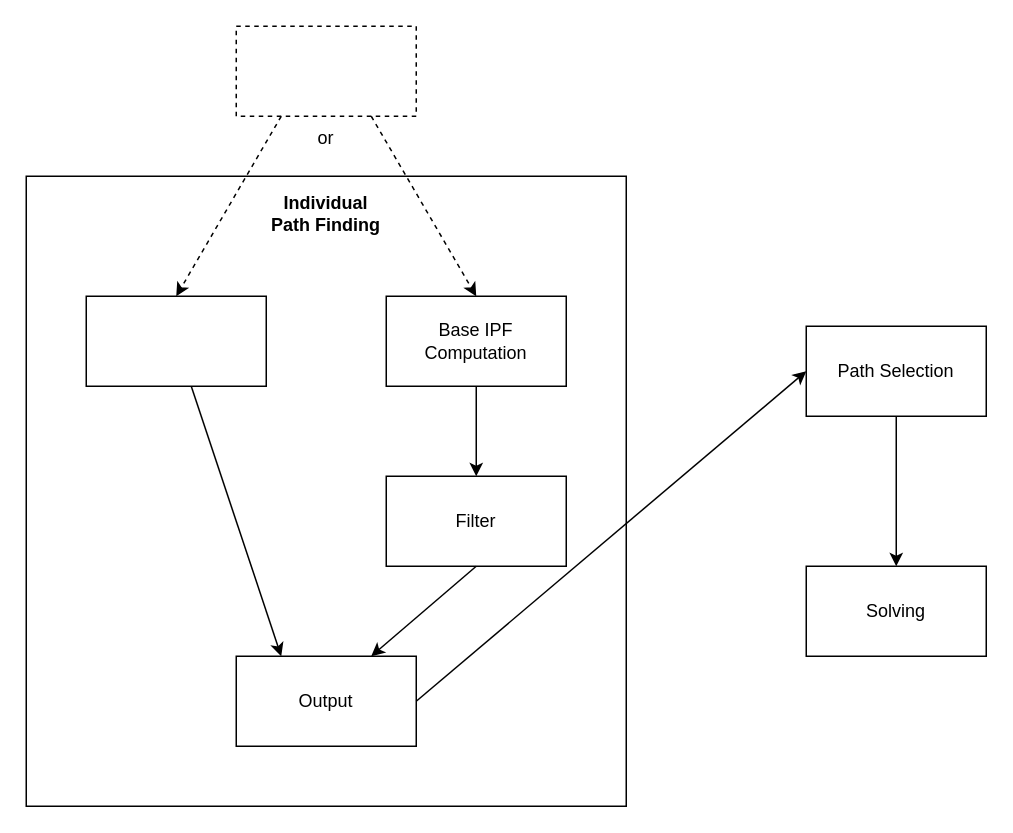
The diagram is 1013 pixels wide and 833 high, and some of its shapes have lost their labels. The centre of each missing label's shape, as x and y in pixels:
Input instance: point (325, 70)
Naive IPF Computation: point (175, 340)
